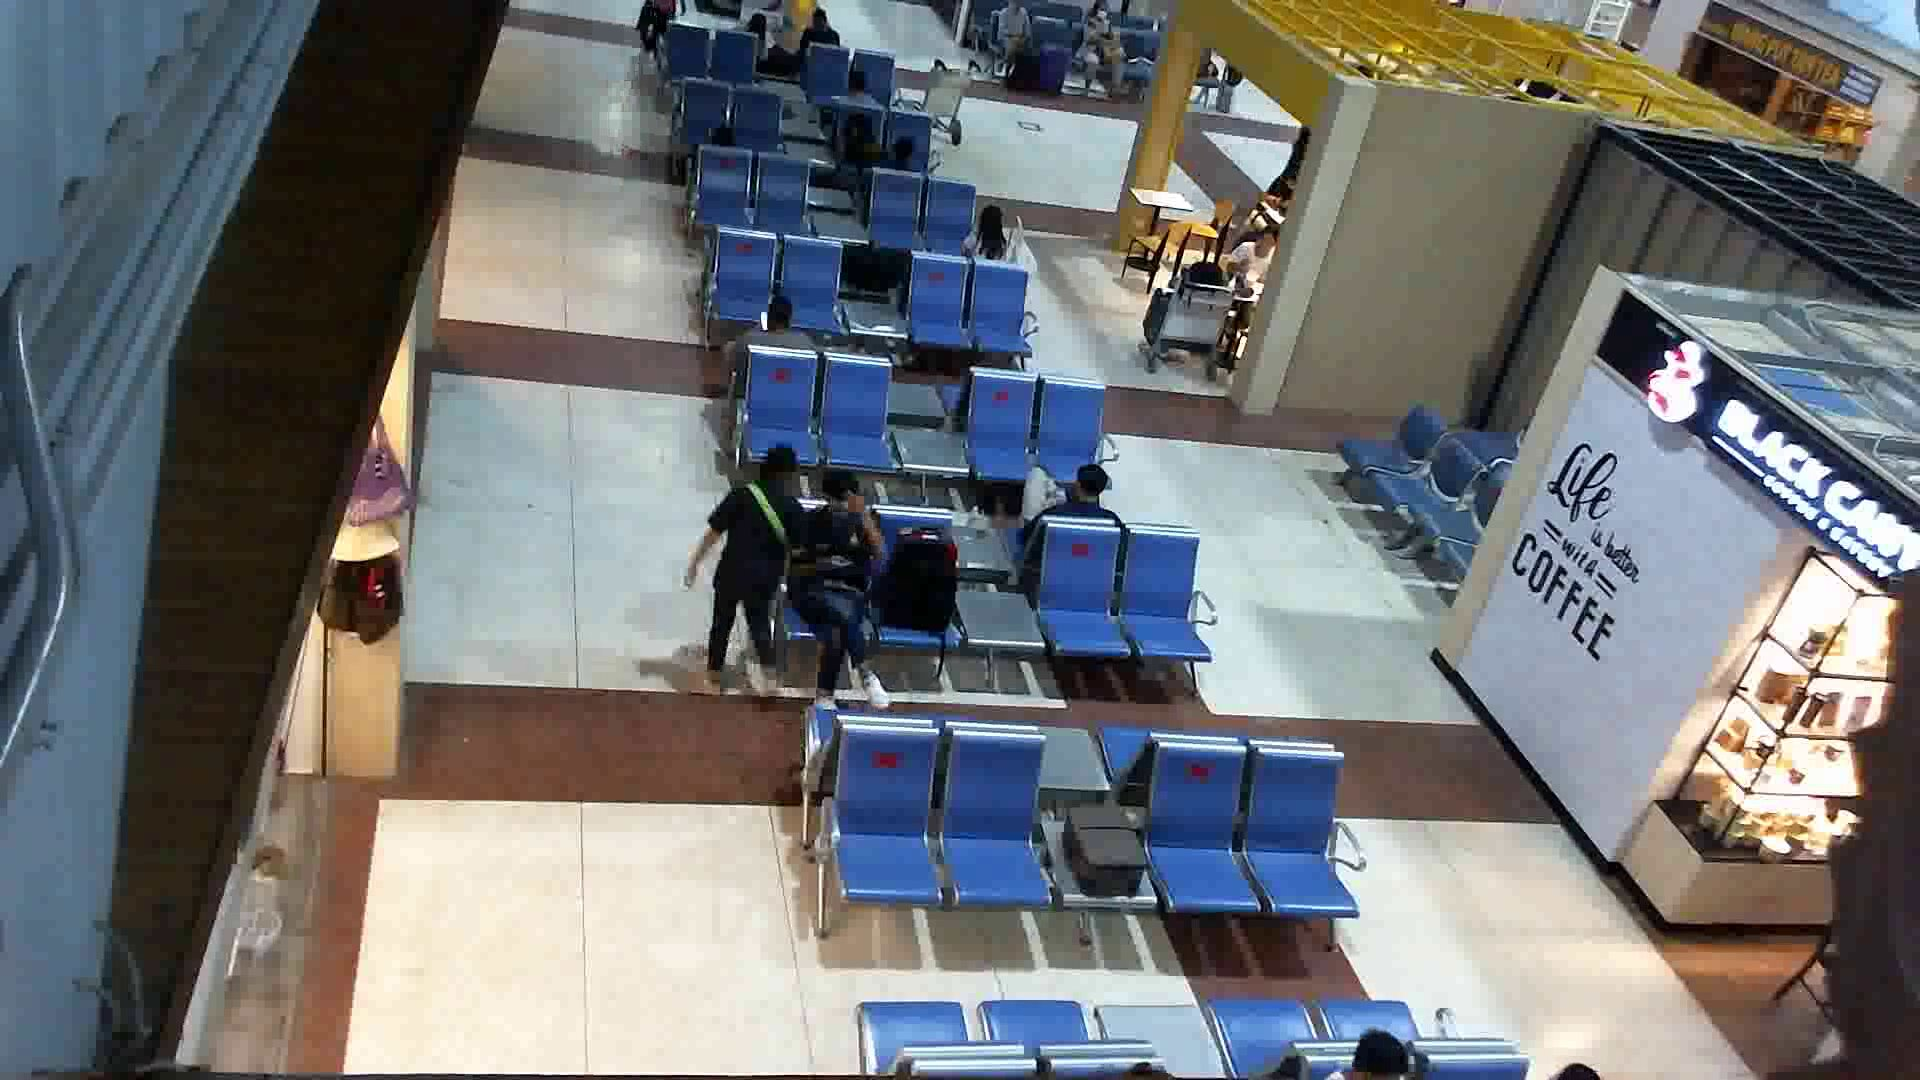luggage: (1044, 796, 1158, 910), (880, 528, 965, 644)
people: (671, 433, 816, 688), (788, 469, 900, 741), (1006, 460, 1133, 566)
